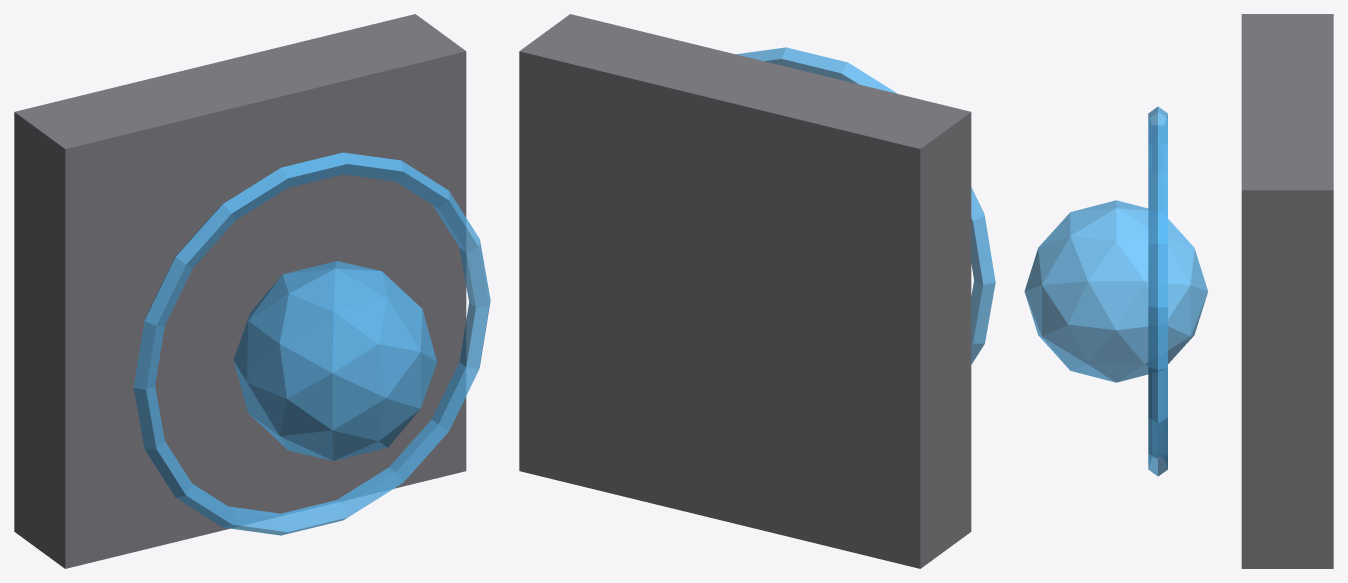
File: rotating_mirror_device.glb
3 views of the same model, side by side, from view 1: azimuth 30°, elevation 25°; view 2: azimuth 150°, elevation 25°; view 3: azimuth 270°, elevation 25° (orthographic). The views are drawn at different scales.
Parts seen in each view (by area): view 1: puzzle_base, puzzle_core, rune_ring; view 2: puzzle_base, rune_ring; view 3: puzzle_base, puzzle_core, rune_ring.
Part boxes in pixels (box(x1,y1,x2,y2)): puzzle_base: box(14, 14, 466, 568); puzzle_core: box(233, 261, 436, 460); rune_ring: box(133, 152, 490, 535); puzzle_base: box(519, 14, 971, 568); rune_ring: box(736, 47, 995, 364); puzzle_base: box(1241, 14, 1333, 568); puzzle_core: box(1024, 200, 1207, 382); rune_ring: box(1148, 106, 1167, 476).
Bounding box in the file's own units: 1 × 1 × 0.74.
